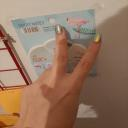PeaceSign: (19, 22, 108, 120)
